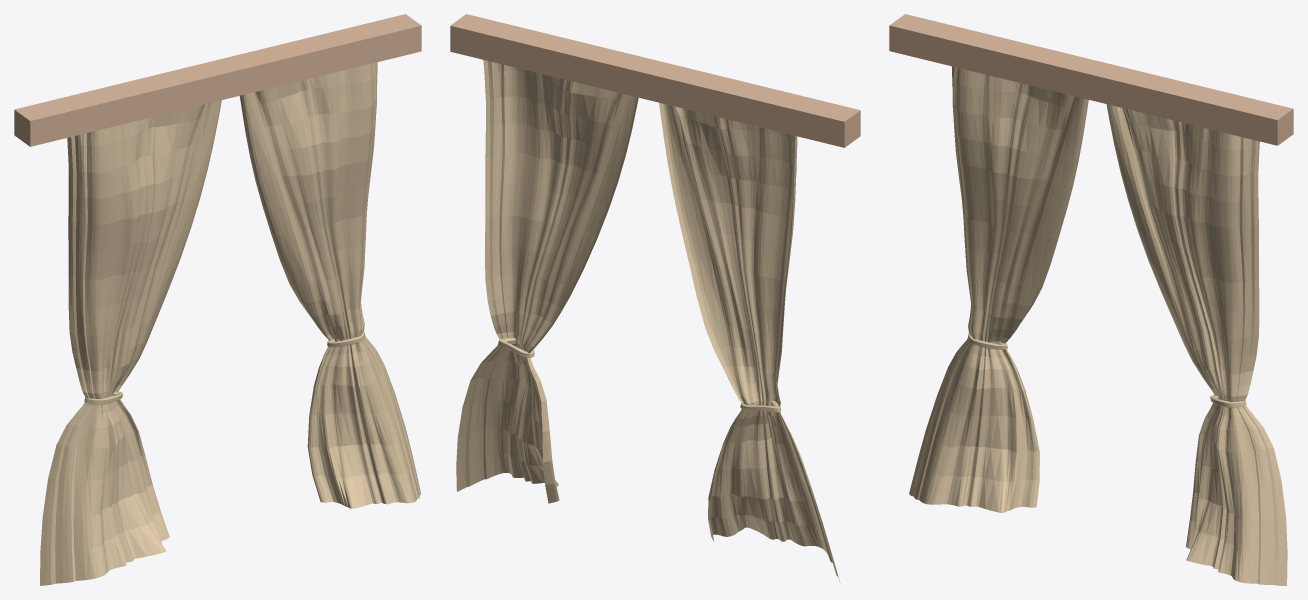
File: curtains.fbx
3 views of the same model, side by side, from view 1: azimuth 30°, elevation 25°; view 2: azimuth 150°, elevation 25°; view 3: azimuth 330°, elevation 25° (orthographic).
Visible parts, largest first — view 1: curtain1; view 2: curtain1; view 3: curtain1.
Part boxes in pixels (x1,y1,x2,y2): curtain1: [14, 14, 421, 585]; curtain1: [450, 14, 860, 584]; curtain1: [889, 14, 1293, 585].
Bounding box in the file's own units: 126 × 143 × 18.91.
